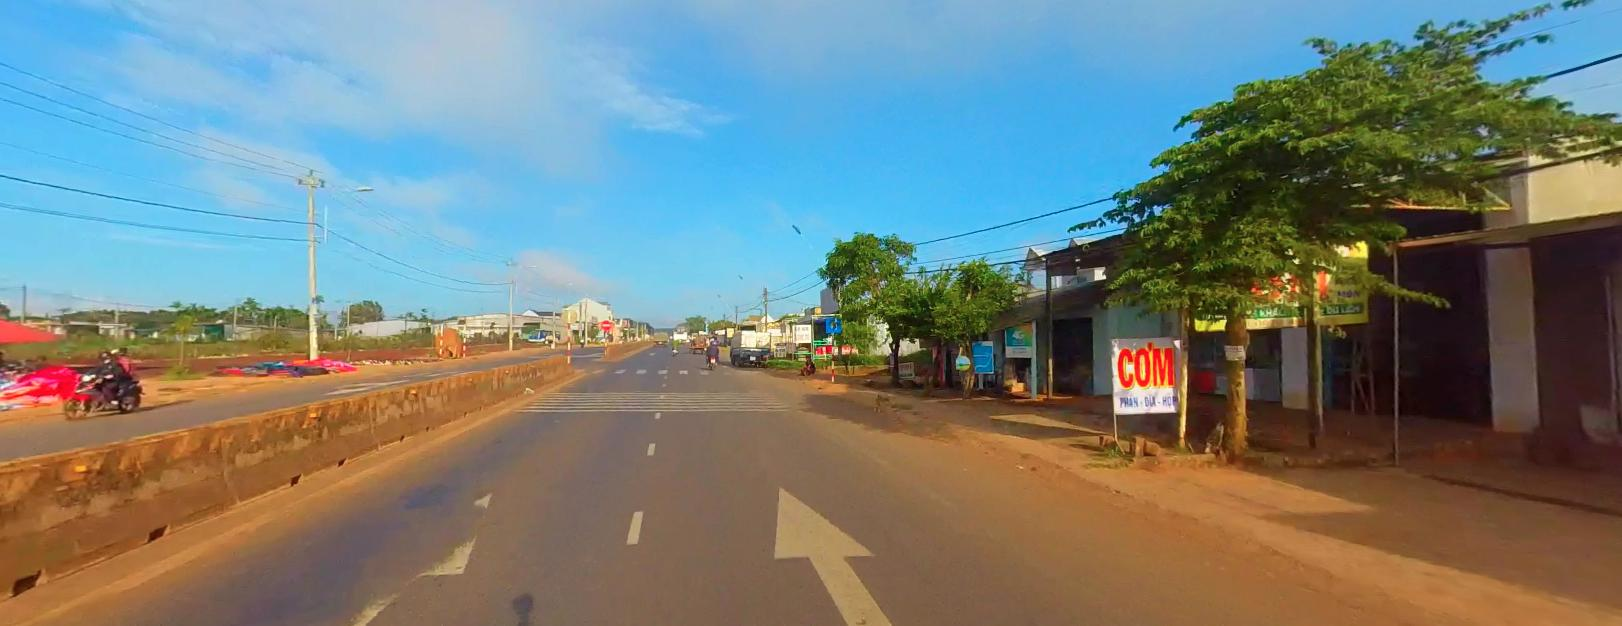Cam nguoc chieu: (600, 318, 610, 328), (601, 319, 610, 328)
